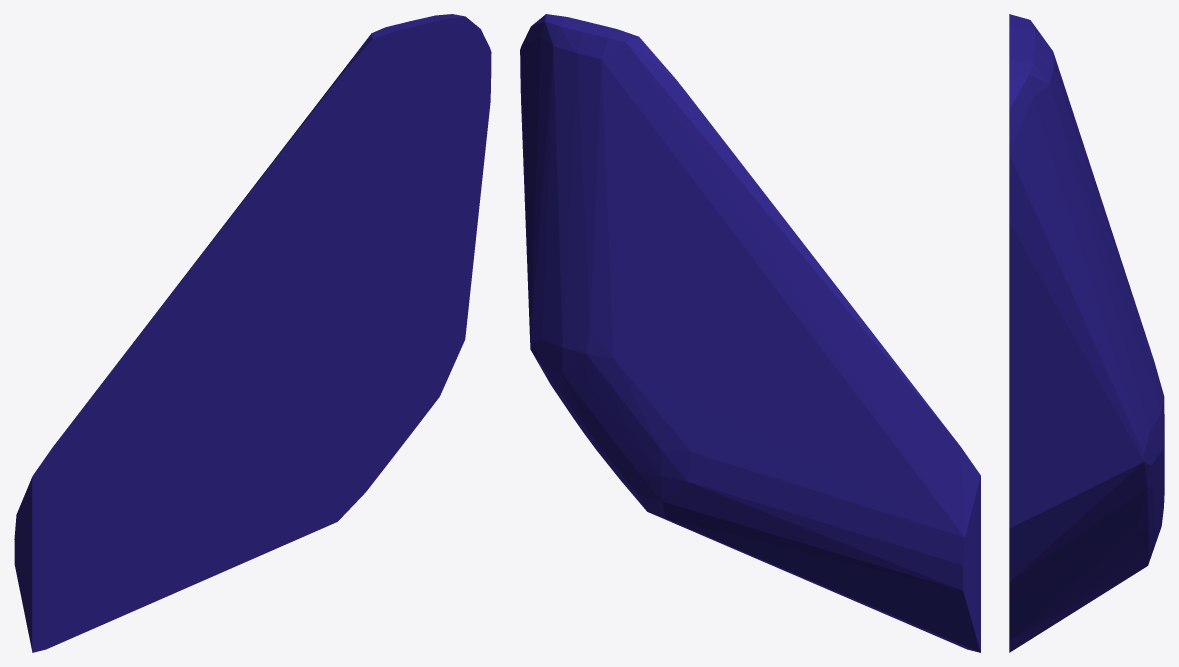
Rendered from pelvis_part_18.obj.
3 renders of one model, left to right at view 1: azimuth 30°, elevation 25°; view 2: azimuth 150°, elevation 25°; view 3: azimuth 270°, elevation 25°, orthographic. The views are drawn at different scales.
Size of the model in its own units: 0.0427 by 0.0473 by 0.00895.
